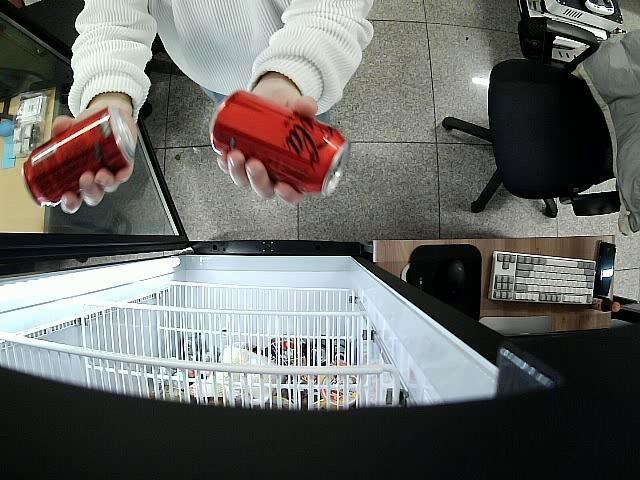11_cocaColaZero: (208, 88, 352, 198), (22, 106, 137, 208)
